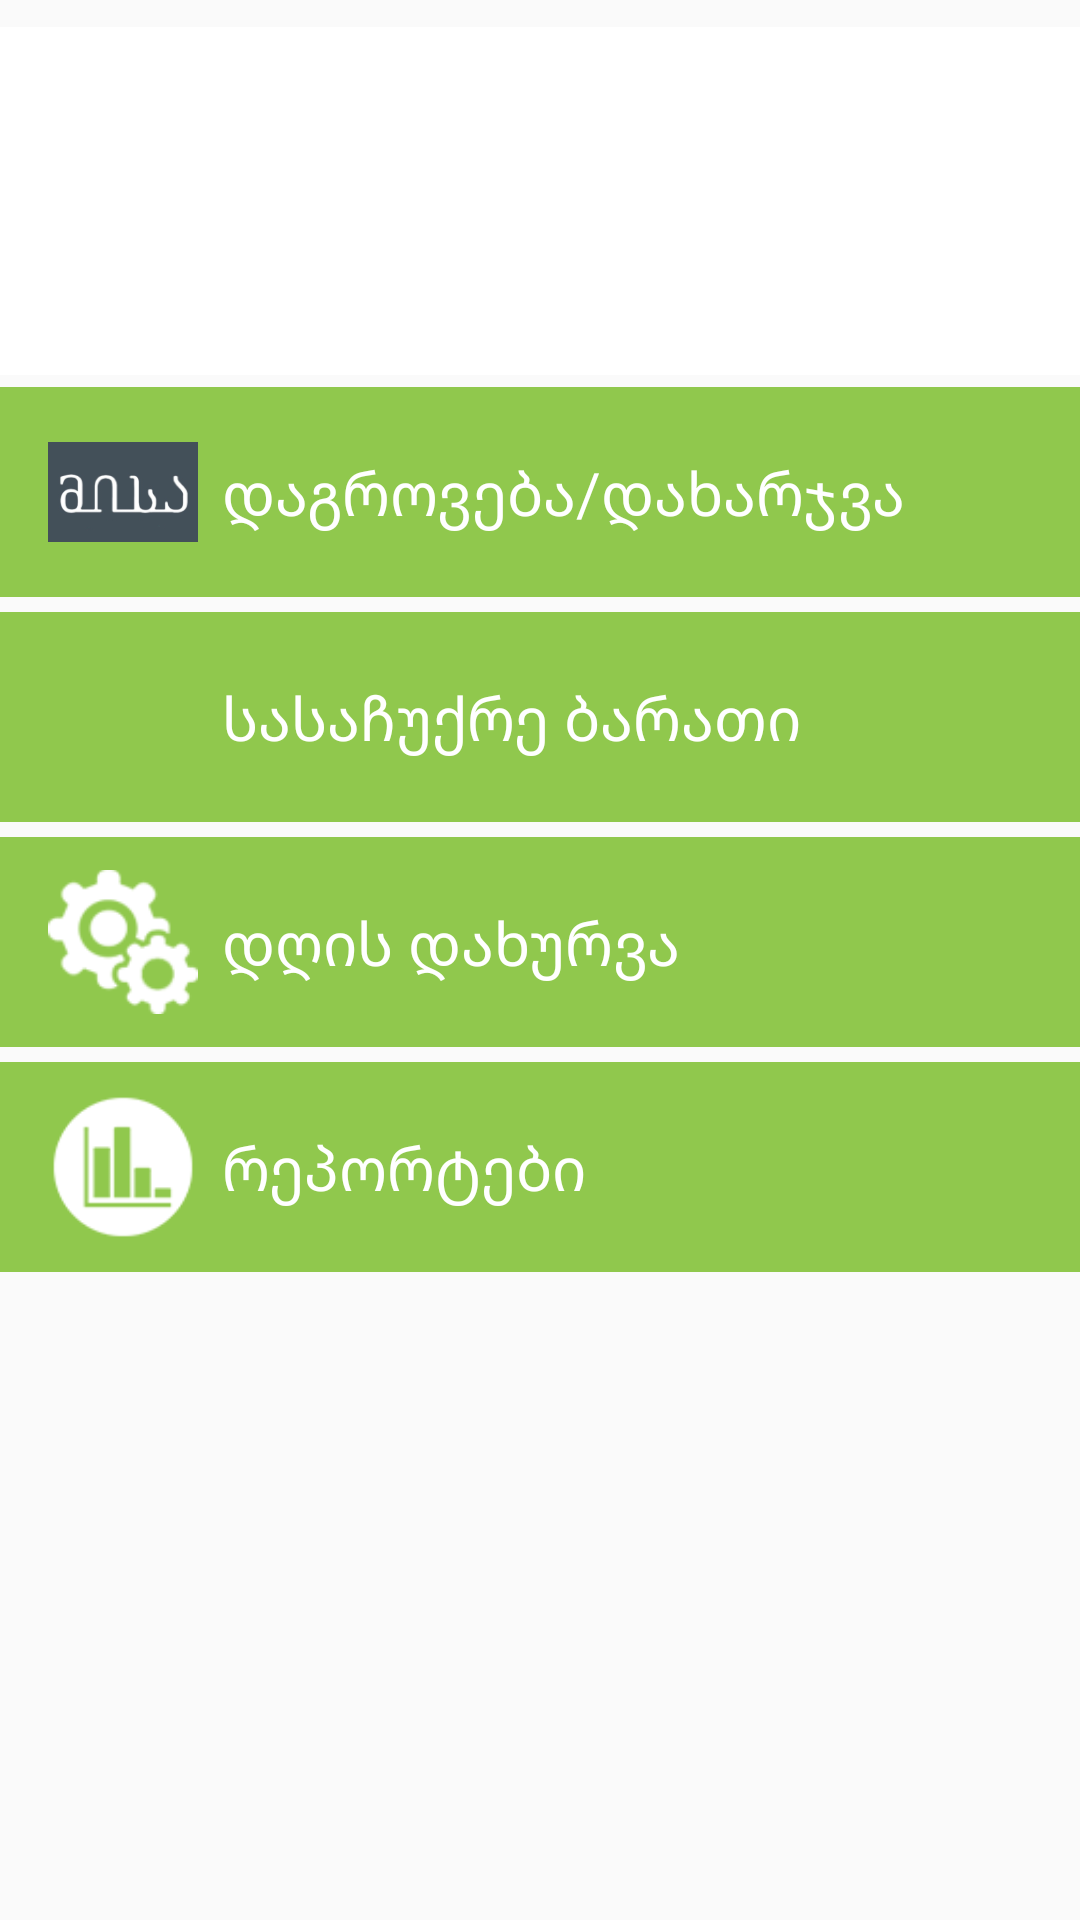

Where to tap for icons on this 1080 x 1920 app screen, as (x,y):
graph: (123,1167)
sett: (123,942)
